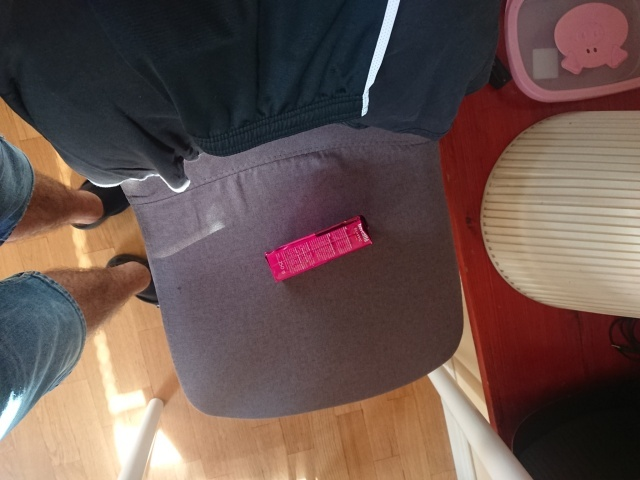Barcaffe Classic Original 225g: (263, 213, 375, 285)
